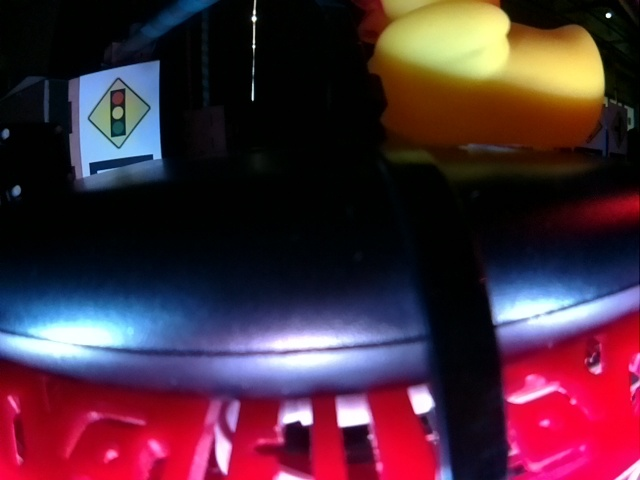Duckie: (362, 2, 604, 148)
Duckiebot: (1, 153, 640, 477)
Signal sign: (89, 76, 152, 148)
